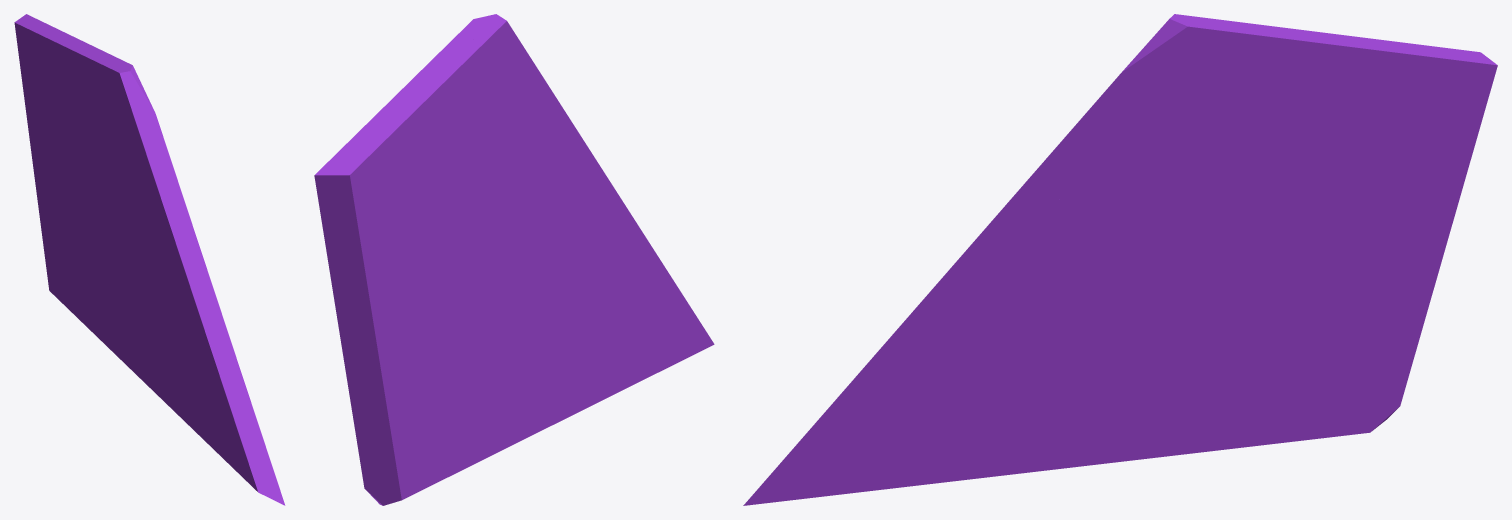
The model's file is Window_14_9_chunks.fbx.
3 views of the same model, side by side, from view 1: azimuth 30°, elevation 25°; view 2: azimuth 150°, elevation 25°; view 3: azimuth 270°, elevation 25° (orthographic). The views are drawn at different scales.
Parts seen in each view (by area): view 1: Window_14_9_1, Window_14_9_2, Window_14_9_0, Window_14_9_3; view 2: Window_14_9_1, Window_14_9_2, Window_14_9_0, Window_14_9_3; view 3: Window_14_9_1, Window_14_9_0, Window_14_9_2, Window_14_9_3.
Part boxes in pixels (x1,y1,x2,y2): Window_14_9_1: (105,200,285,505); Window_14_9_2: (14,14,118,225); Window_14_9_0: (31,153,115,354); Window_14_9_3: (111,55,188,214); Window_14_9_1: (485,119,714,450); Window_14_9_2: (314,31,505,332); Window_14_9_0: (335,281,501,505); Window_14_9_3: (441,14,569,220); Window_14_9_1: (743,184,1201,505); Window_14_9_0: (1166,210,1456,456); Window_14_9_2: (1196,16,1497,238); Window_14_9_3: (1024,14,1251,260).
Size of the model in its own units: 27.2 by 480 by 683.
